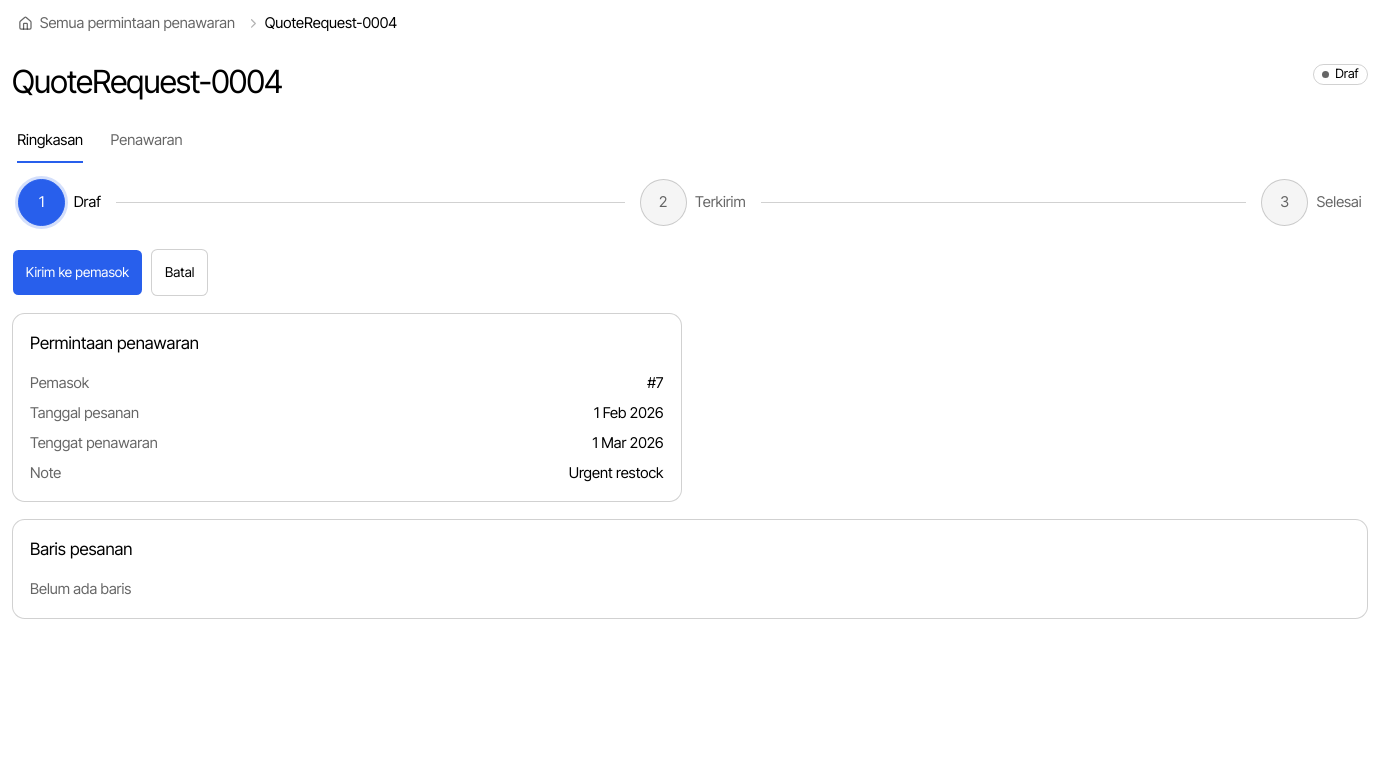
Test case: SupplierQuoteRequestDetail branches2 › renders empty lines and empty quotes branches
Expected: the text "Belum ada baris" is shown, [30, 580, 131, 598]
Click the tab "Penawaran" at [147, 141], box [110, 117, 184, 164]
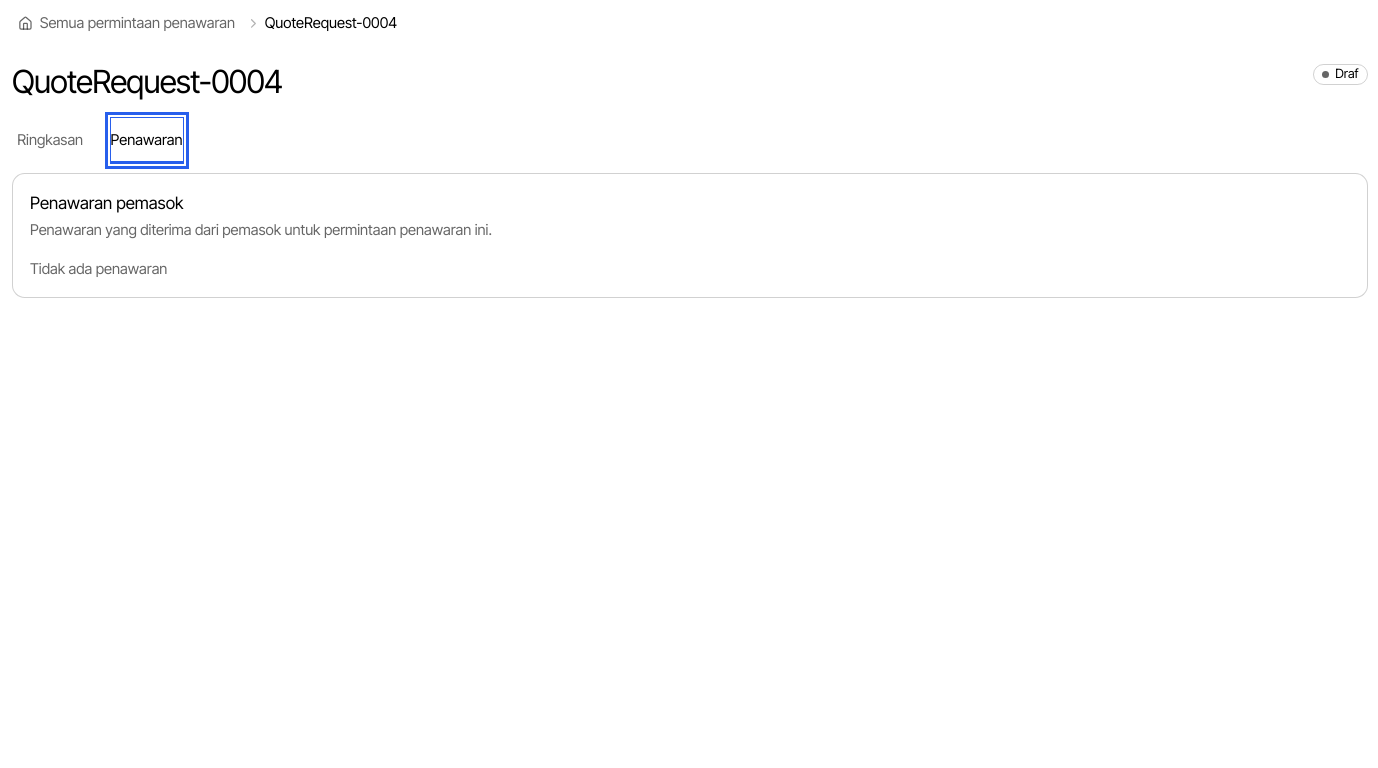
Now the text "Tidak ada penawaran" is shown, box [30, 260, 167, 278]
